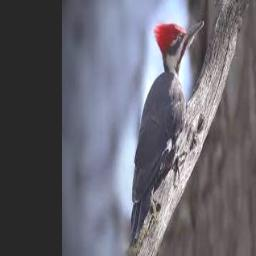Woodpecker: (130, 20, 204, 244)
